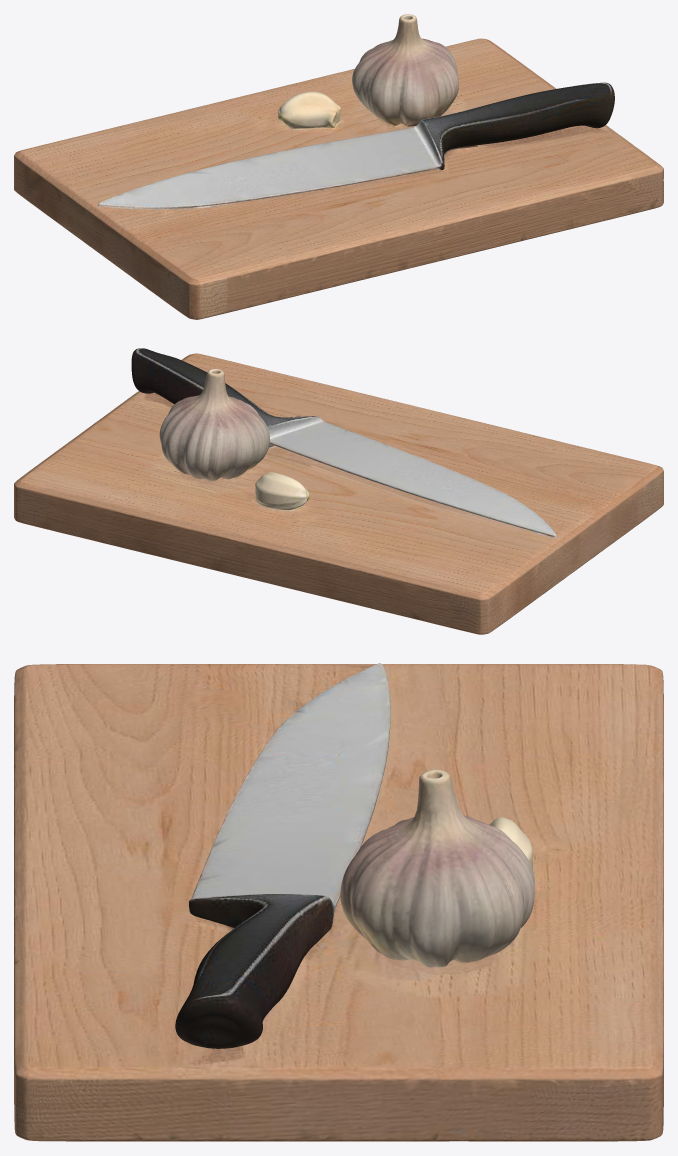
The model's file is cutting-board.glb.
The picture shows the model from 3 angles, top to bottom: view 1: azimuth 30°, elevation 25°; view 2: azimuth 150°, elevation 25°; view 3: azimuth 270°, elevation 25°; orthographic projection. The views are drawn at different scales.
Parts seen in each view (by area): view 1: Mesh_0; view 2: Mesh_0; view 3: Mesh_0.
Part boxes in pixels (bbox=[...]): Mesh_0: bbox=[14, 14, 663, 319]; Mesh_0: bbox=[14, 348, 663, 634]; Mesh_0: bbox=[14, 663, 663, 1141].
Bounding box in the file's own units: 0.2717 × 0.0762 × 0.1801.
1 material, 1 textured.
